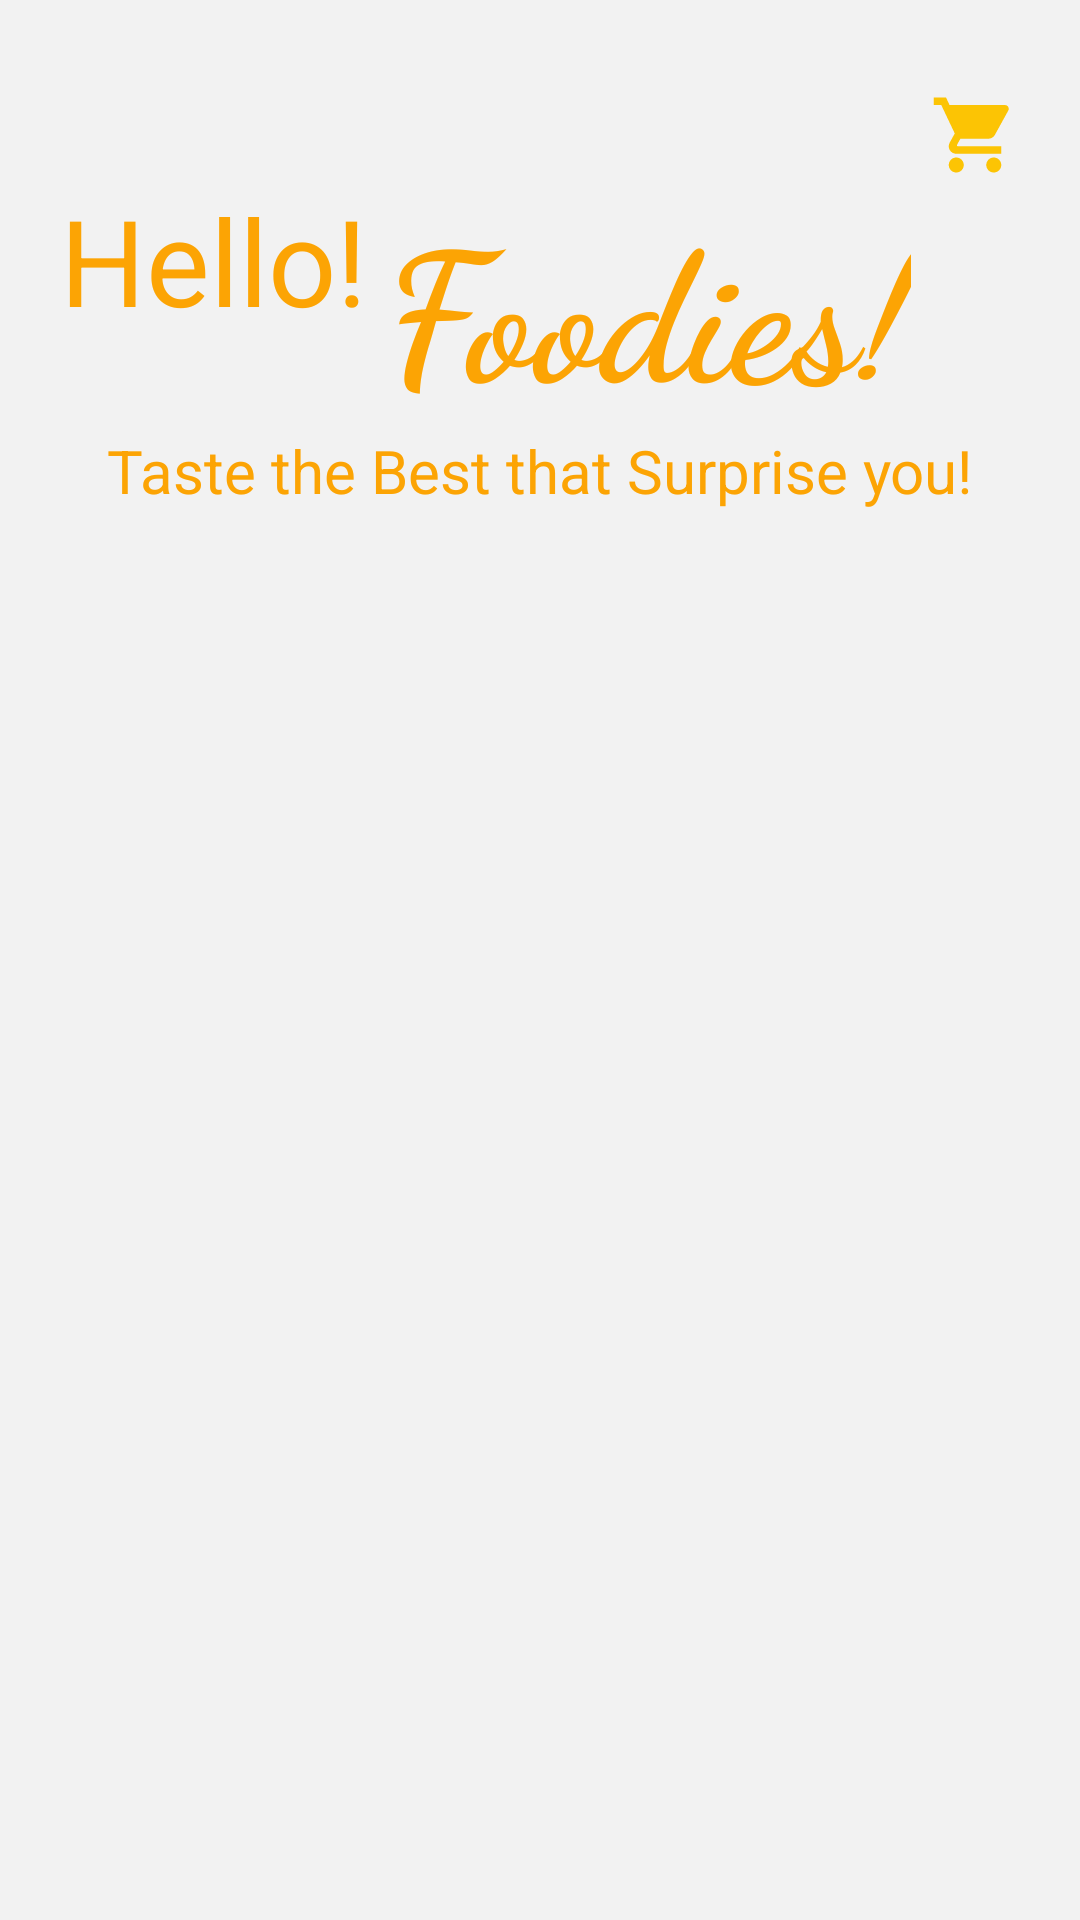

Named icons in this screenshot (1080x1920) and their centers, point (x, y):
shopping cart: point (971, 135)
